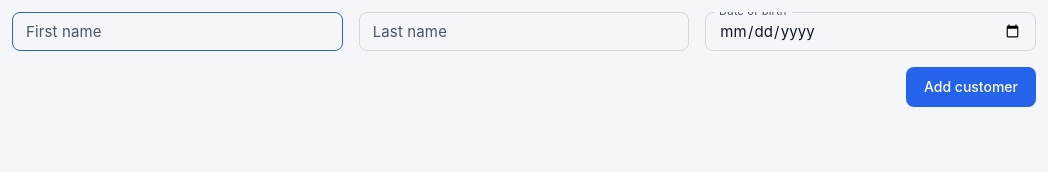
Scenario: CustomerForm › shows helperText error for blank firstName on submit
What coordinates should you click on to do the following:
click the button "Add customer"
I would click on:
 (971, 87)
Its box is [906,67,1036,107].
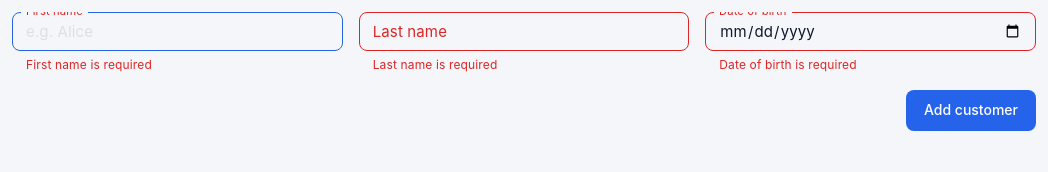
Result: the text "First name is required" is shown at [26,57,152,72]
